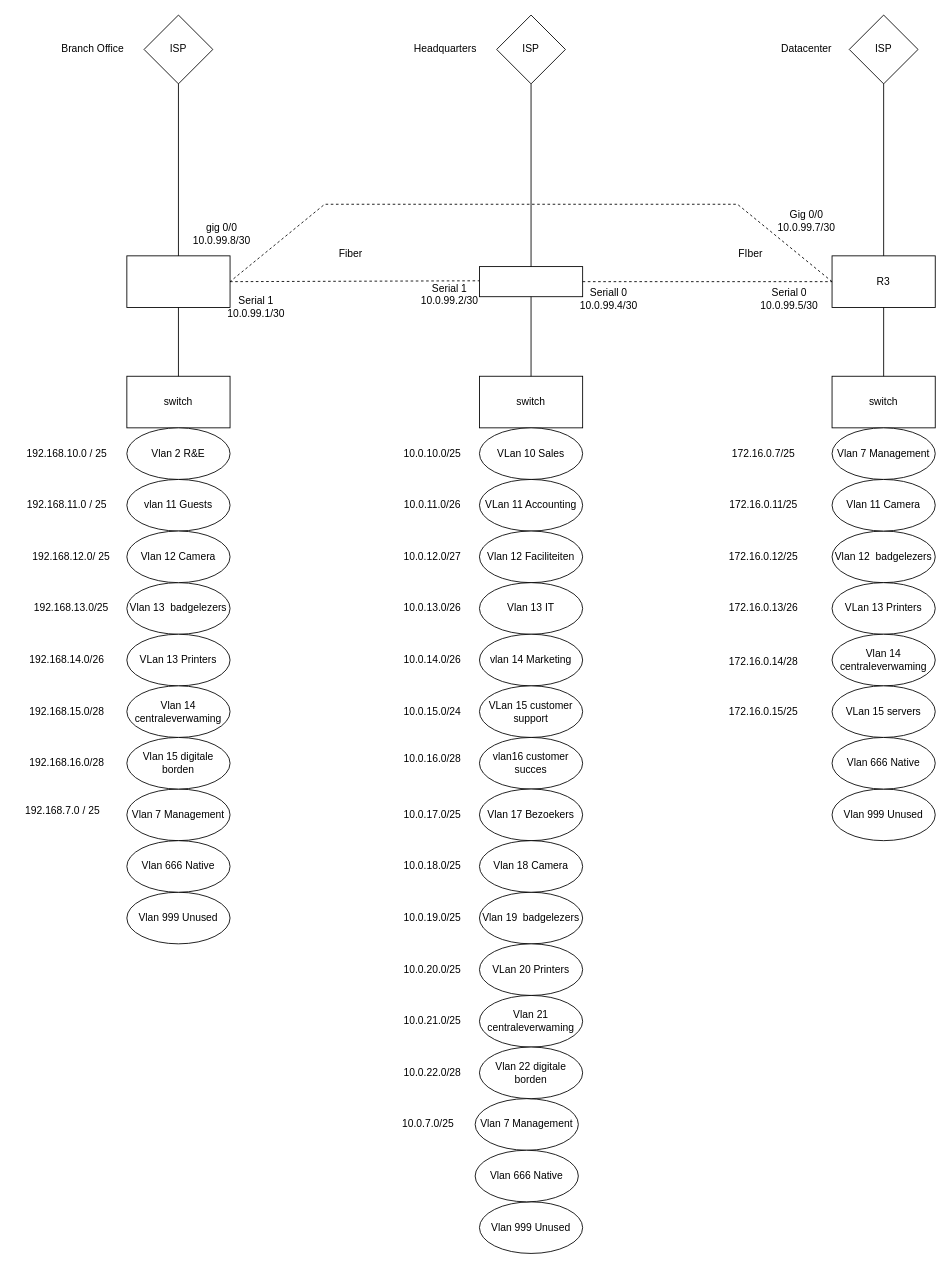
Image size: 950x1269. Some labels were removed from this diagram. Each missing label, with the box of its shape:
R1: (126, 255, 230, 307)
R2: (479, 266, 583, 297)
